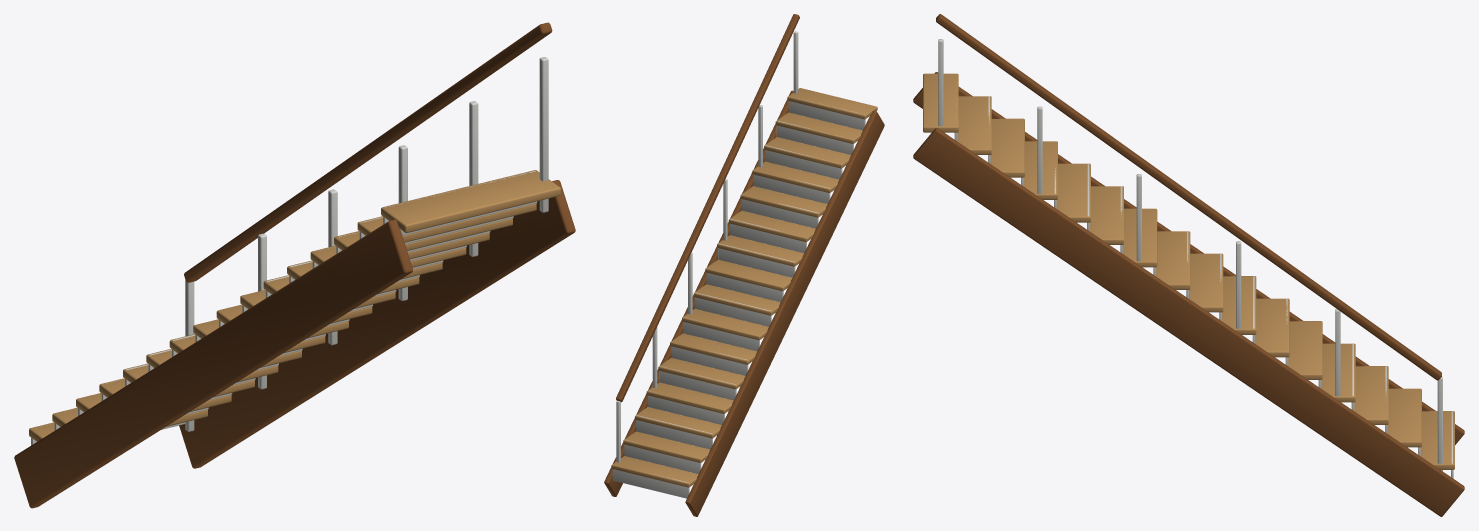
Rendered from stairs.glb.
3 renders of one model, left to right at view 1: azimuth 30°, elevation 25°; view 2: azimuth 150°, elevation 25°; view 3: azimuth 270°, elevation 25°, orthographic. The views are drawn at different scales.
Visible parts, largest first — view 1: stairs; view 2: stairs; view 3: stairs.
Part boxes in pixels (x1=…): stairs: x1=14, y1=22, x2=575, y2=508; stairs: x1=604, y1=14, x2=884, y2=516; stairs: x1=913, y1=14, x2=1464, y2=516.
Bounding box in the file's own units: 1.06 × 4.15 × 4.17.
